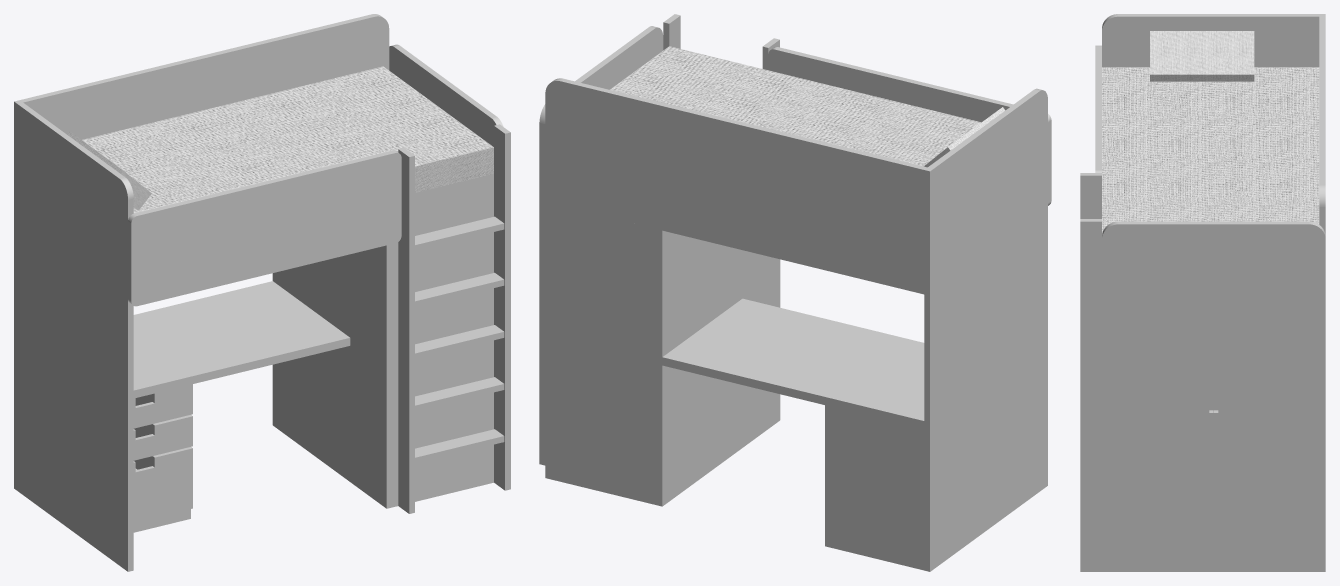
The model's file is Smastad.fbx.
The picture shows the model from 3 angles, left to right: view 1: azimuth 30°, elevation 25°; view 2: azimuth 150°, elevation 25°; view 3: azimuth 270°, elevation 25°; orthographic projection. The views are drawn at different scales.
Parts seen in each view (by area): view 1: IKE160013; view 2: IKE160013; view 3: IKE160013.
Part boxes in pixels (bbox=[...]): IKE160013: bbox=[14, 14, 510, 571]; IKE160013: bbox=[539, 14, 1051, 571]; IKE160013: bbox=[1080, 14, 1325, 571].
Size of the model in its own units: 19700 by 19300 by 11300.
2 materials, 1 textured.
